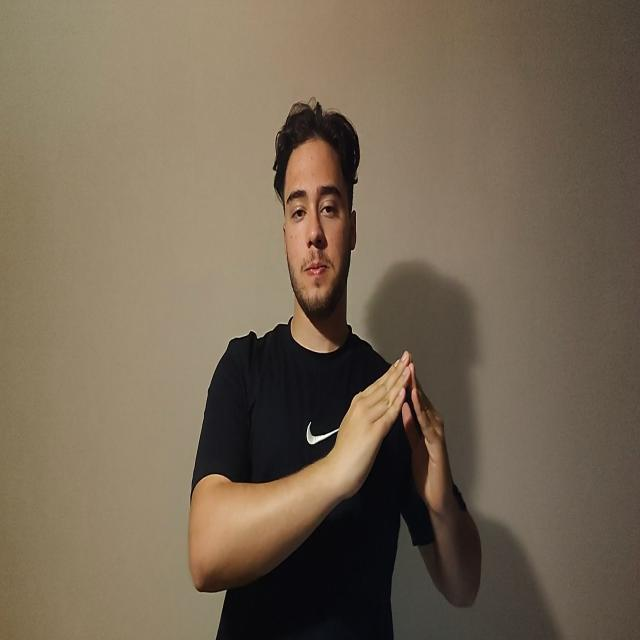house: (333, 350, 452, 523)
